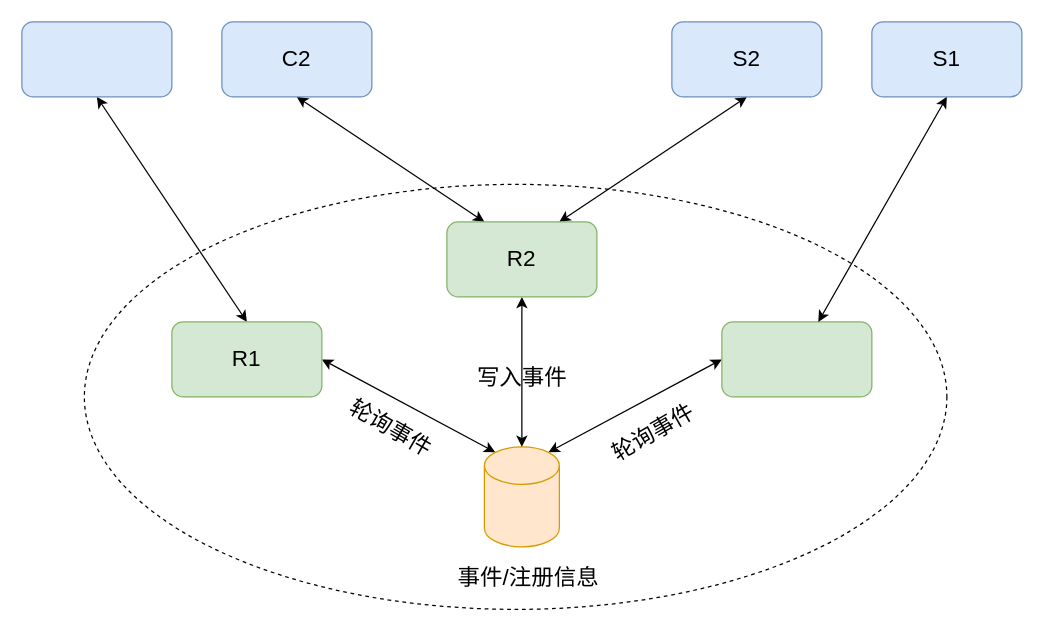
Image size: 1044x631. Some labels were removed from this diagram. Each missing label, with the box of its shape:
C1: (21, 21, 172, 97)
R3: (721, 321, 872, 397)
